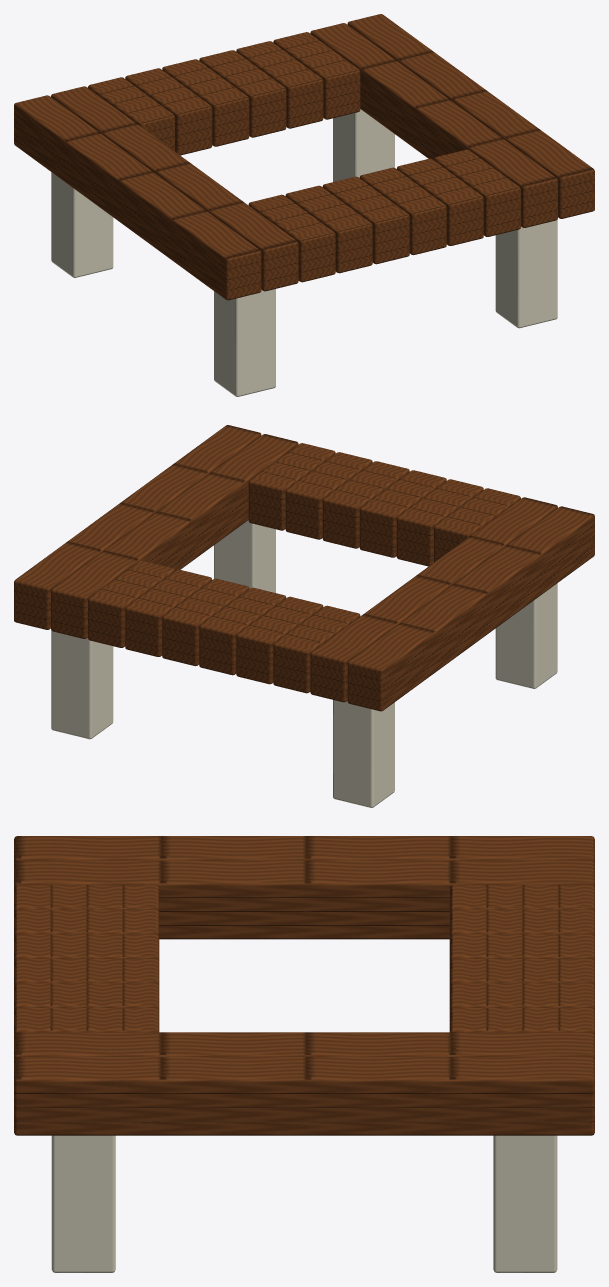
Rendered from prehistoric-survivor-settlement-pit-access-platform-7602329a__23180.glb.
The picture shows the model from 3 angles, top to bottom: view 1: azimuth 30°, elevation 25°; view 2: azimuth 150°, elevation 25°; view 3: azimuth 270°, elevation 25°; orthographic projection. The views are drawn at different scales.
Parts seen in each view (by area): view 1: pit-access-platform; view 2: pit-access-platform; view 3: pit-access-platform.
Part boxes in pixels (x1,y1,x2,y2): pit-access-platform: [14, 14, 594, 396]; pit-access-platform: [14, 425, 594, 807]; pit-access-platform: [14, 836, 594, 1272].
Size of the model in its own units: 1.99 by 0.8 by 2.
Materials: 2 (1 with a texture image).
